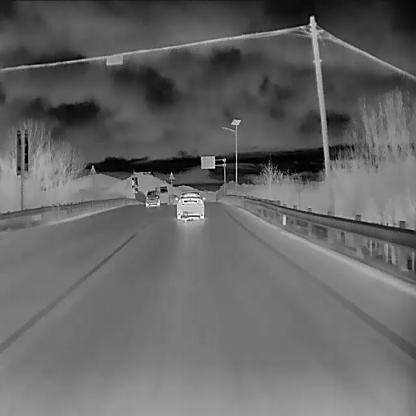car: (174, 190, 206, 219), (145, 190, 160, 206)
